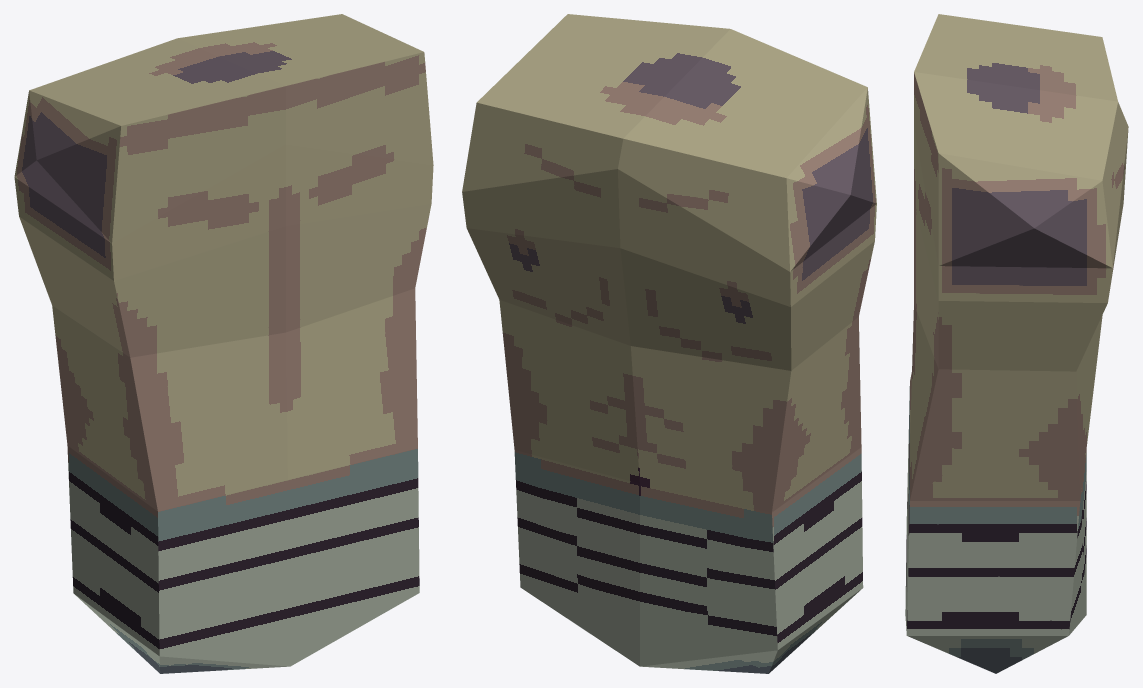
The model's file is character_torso.glb.
The picture shows the model from 3 angles, left to right: view 1: azimuth 30°, elevation 25°; view 2: azimuth 150°, elevation 25°; view 3: azimuth 270°, elevation 25°; orthographic projection. The views are drawn at different scales.
Parts seen in each view (by area): view 1: Cube.004; view 2: Cube.004; view 3: Cube.004.
Boxes of the visible parts, x1,y1,x2,y2 form: Cube.004: [14, 14, 433, 673]; Cube.004: [462, 14, 876, 673]; Cube.004: [905, 14, 1128, 673].
Size of the model in its own units: 2.7 by 4.18 by 1.5.
Materials: 1 (1 with a texture image).
